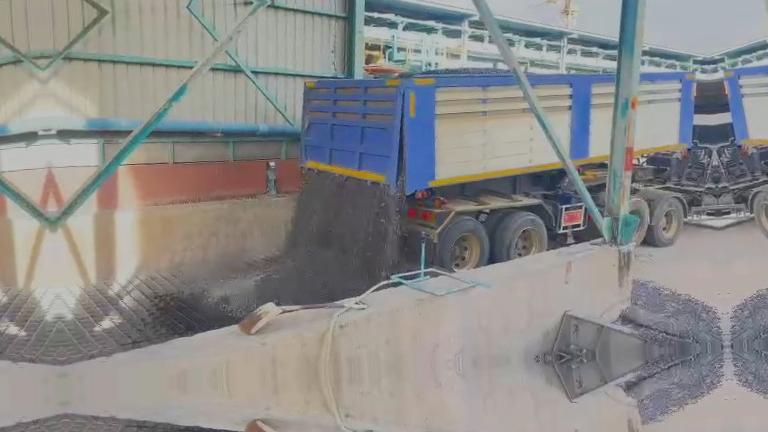gravel: (210, 172, 404, 316), (620, 280, 726, 343)
